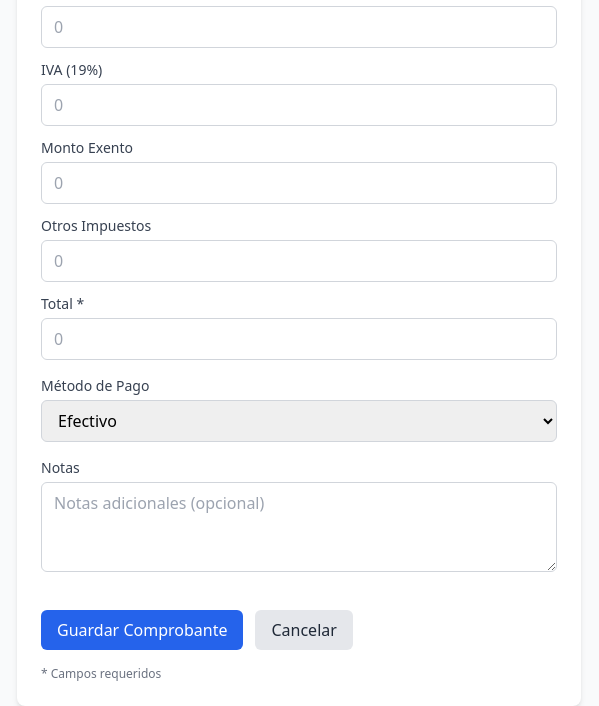
it: InvoiceForm › validates required fields before submission
(page scrolled)
What coordinates should you click on to do the following:
click the button "Guardar Comprobante"
I would click on:
 (142, 630)
Its box is [41,610,244,650].
(page scrolled)
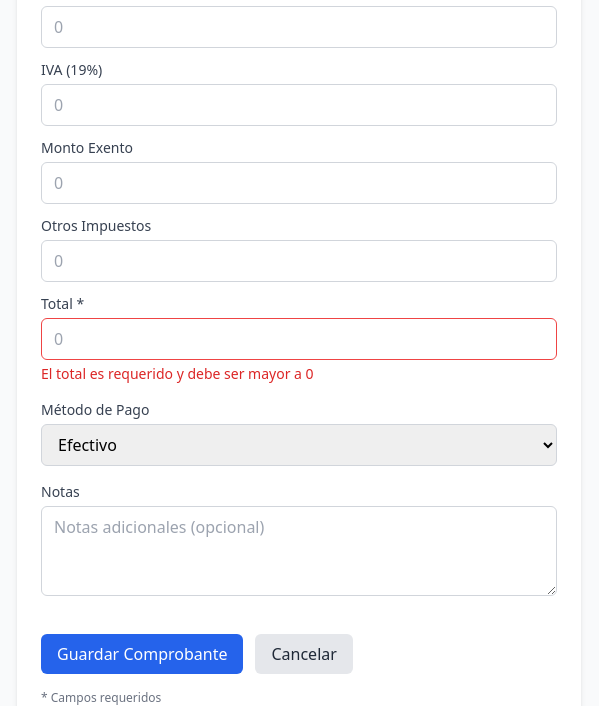
Expected: the text "El total es requerido y debe ser mayor a 0" is shown, [41,364,314,383]
